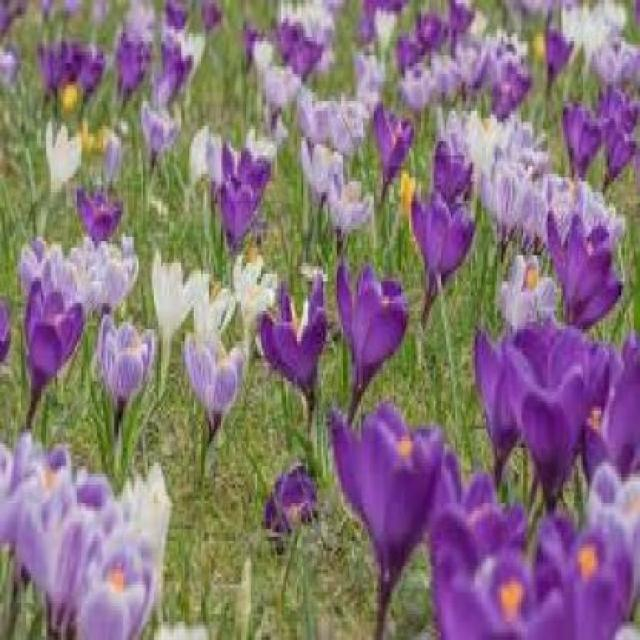Flower: (333, 403, 442, 594), (510, 306, 593, 489), (334, 259, 404, 398), (255, 281, 327, 402), (23, 277, 86, 394), (410, 191, 475, 297), (188, 323, 246, 440), (97, 319, 152, 423), (558, 95, 607, 172), (208, 176, 261, 244), (372, 106, 414, 186), (543, 17, 575, 74)
